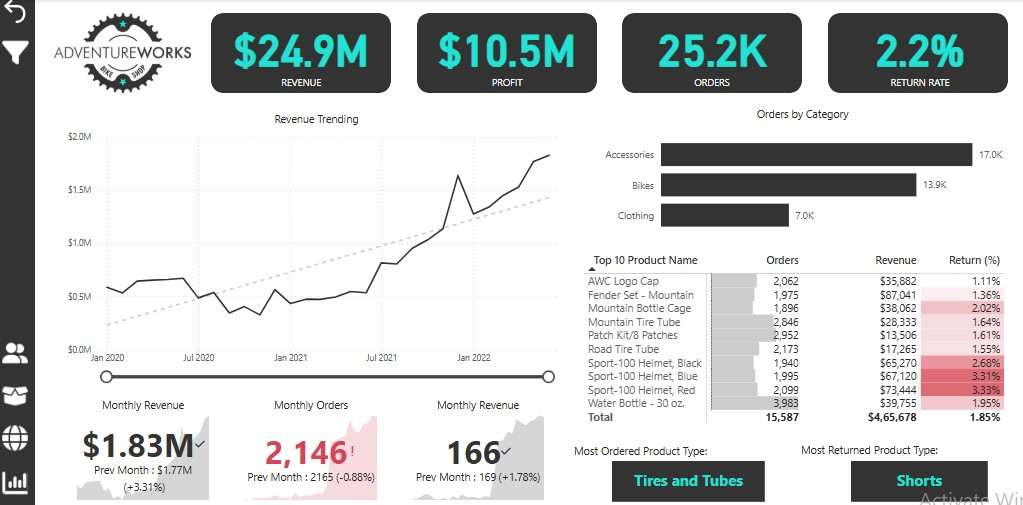

Layout of this report page (visuals, bound fields, positions):
{"tool":"powerbi","page":{"name":"Exec. Document","canvas":[1280,720],"ordinal":0},"visuals":[{"type":"card","fields":{"Values":["Meaure Table.Total Revenue (cc)"]},"box":[267.5,0,220,150],"z":0,"group":"g2"},{"type":"image","title":"AW Logo","box":[45,8.8,220,135],"z":0},{"type":"group","id":"g1","title":"KPI's Background","box":[265,26.2,996.2,100],"z":0,"group":"g3"},{"type":"shape","box":[265,26.2,225,100],"z":0,"group":"g1"},{"type":"actionButton","box":[0,594,45,40],"z":0,"group":"g4"},{"type":"shape","title":"Left Nav. Background","box":[0,0,45,711.2],"z":1000},{"type":"group","id":"g2","title":"KPI Values","box":[267.5,0,993.1,150],"z":1000,"group":"g3"},{"type":"card","fields":{"Values":["Meaure Table.Total Profit"]},"box":[524.6,0,220,150],"z":1000,"group":"g2"},{"type":"shape","box":[522.1,26.2,225,100],"z":1000,"group":"g1"},{"type":"actionButton","box":[0,537.7,45,40],"z":1000,"group":"g4"},{"type":"group","id":"g3","title":"KPI's","box":[265,0,996.2,150],"z":2000},{"type":"card","fields":{"Values":["Meaure Table.Total Orders"]},"box":[781.7,0,220,150],"z":2000,"group":"g2"},{"type":"shape","box":[779.2,26.2,225,100],"z":2000,"group":"g1"},{"type":"actionButton","box":[0,484.6,45,40],"z":2000,"group":"g4"},{"type":"card","fields":{"Values":["Meaure Table.Return Rate"]},"box":[1040.6,0,220,150],"z":3000,"group":"g2"},{"type":"shape","box":[1036.2,26.2,225,100],"z":3000,"group":"g1"},{"type":"lineChart","title":"Revenue Trending","fields":{"Y":["Meaure Table.Total Revenue"],"Category":["Calendar Lookup.Year","Calendar Lookup.Start of Quarter","Calendar Lookup.Start of Month"]},"box":[80,150,633.8,342],"z":3000},{"type":"actionButton","box":[0,431.5,45,40],"z":3000,"group":"g4"},{"type":"kpi","title":"Monthly Revenue","fields":{"Indicator":["Meaure Table.Total Revenue"],"TrendLine":["Calendar Lookup.Start of Month"],"Goal":["Meaure Table.Previous Month Revenue"]},"box":[92.5,507.5,175,132.5],"z":4000},{"type":"kpi","title":"Monthly Revenue","fields":{"TrendLine":["Calendar Lookup.Start of Month"],"Indicator":["Meaure Table.Total Return"],"Goal":["Meaure Table.Previous Month Return"]},"box":[511.2,507.5,175,132.5],"z":5000},{"type":"kpi","title":"Monthly Orders","fields":{"TrendLine":["Calendar Lookup.Start of Month"],"Indicator":["Meaure Table.Total Orders"],"Goal":["Meaure Table.Previous Month Order"]},"box":[301.9,507.5,175,132.5],"z":6000},{"type":"clusteredBarChart","title":"Orders by Category","fields":{"Category":["Product Categories Lookup.CategoryName"],"Y":["Meaure Table.Total Orders"]},"box":[747.5,143.8,513.8,171.2],"z":7000},{"type":"pivotTable","fields":{"Values":["Meaure Table.Total Orders","Meaure Table.Total Revenue","Meaure Table.Return Rate"],"Rows":["Product Lookup.ProductName"]},"box":[726.2,321.2,553.8,228.8],"z":8000},{"type":"card","fields":{"Values":["Min(Product Subcategories Lookup.SubcategoryName)"]},"box":[766.2,586.2,191.2,51.2],"z":9000},{"type":"textbox","box":[713.8,560,243.8,55],"z":10000},{"type":"card","fields":{"Values":["Min(Product Subcategories Lookup.SubcategoryName)"]},"box":[1065,586.2,171.2,51.2],"z":11000},{"type":"textbox","box":[997.5,558.8,243.8,55],"z":12000},{"type":"actionButton","box":[0,3.8,45,40],"z":13000},{"type":"group","id":"g4","title":"Navigation Buttons","box":[0,431.5,45,202.5],"z":14000},{"type":"actionButton","box":[0,55,45,41.2],"z":15000}]}

Visuals, with their boxes on the page's 1280x720 design canvas (x1, y1, x2, y2). These are canvas units, not pixel positions in the 1023x505 screenshot, which may show the page scaled, cropped or inside an application window:
card - Meaure Table.Total Revenue (cc): BBox(268, 0, 488, 150)
"AW Logo" image: BBox(45, 9, 265, 144)
"KPI's Background" group: BBox(265, 26, 1261, 126)
shape: BBox(265, 26, 490, 126)
actionButton: BBox(0, 594, 45, 634)
"Left Nav. Background" shape: BBox(0, 0, 45, 711)
"KPI Values" group: BBox(268, 0, 1261, 150)
card - Meaure Table.Total Profit: BBox(525, 0, 745, 150)
shape: BBox(522, 26, 747, 126)
actionButton: BBox(0, 538, 45, 578)
"KPI's" group: BBox(265, 0, 1261, 150)
card - Meaure Table.Total Orders: BBox(782, 0, 1002, 150)
shape: BBox(779, 26, 1004, 126)
actionButton: BBox(0, 485, 45, 525)
card - Meaure Table.Return Rate: BBox(1041, 0, 1261, 150)
shape: BBox(1036, 26, 1261, 126)
"Revenue Trending" lineChart: BBox(80, 150, 714, 492)
actionButton: BBox(0, 432, 45, 472)
"Monthly Revenue" kpi: BBox(92, 508, 268, 640)
"Monthly Revenue" kpi: BBox(511, 508, 686, 640)
"Monthly Orders" kpi: BBox(302, 508, 477, 640)
"Orders by Category" clusteredBarChart: BBox(748, 144, 1261, 315)
pivotTable - Meaure Table.Total Orders x Meaure Table.Total Revenue: BBox(726, 321, 1280, 550)
card - Min(Product Subcategories Lookup.SubcategoryName): BBox(766, 586, 957, 637)
textbox: BBox(714, 560, 958, 615)
card - Min(Product Subcategories Lookup.SubcategoryName): BBox(1065, 586, 1236, 637)
textbox: BBox(998, 559, 1241, 614)
actionButton: BBox(0, 4, 45, 44)
"Navigation Buttons" group: BBox(0, 432, 45, 634)
actionButton: BBox(0, 55, 45, 96)
